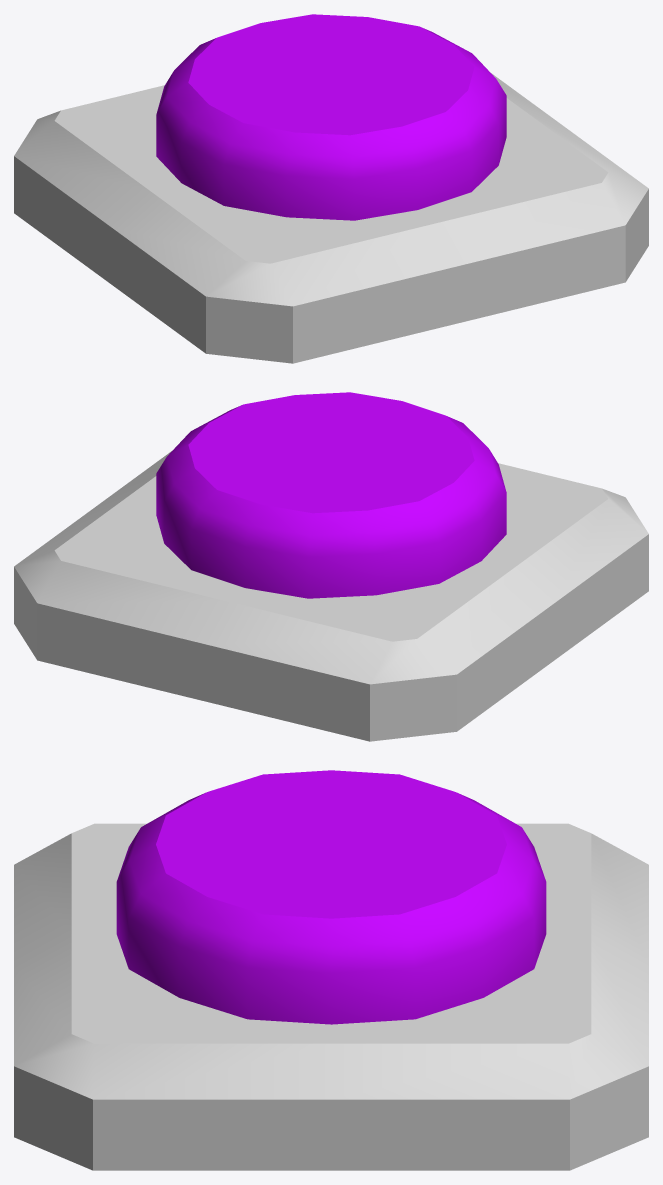
The model's file is LED_3_Purple.fbx.
3 views of the same model, one above another, from view 1: azimuth 30°, elevation 25°; view 2: azimuth 150°, elevation 25°; view 3: azimuth 270°, elevation 25° (orthographic). The views are drawn at different scales.
Visible parts, largest first — view 1: LED_3_Purple; view 2: LED_3_Purple; view 3: LED_3_Purple.
Boxes of the visible parts, x1=… form: LED_3_Purple: x1=14, y1=14, x2=648, y2=363; LED_3_Purple: x1=14, y1=392, x2=648, y2=741; LED_3_Purple: x1=14, y1=770, x2=648, y2=1170.
Size of the model in its own units: 29.08 by 9.7 by 29.08.
